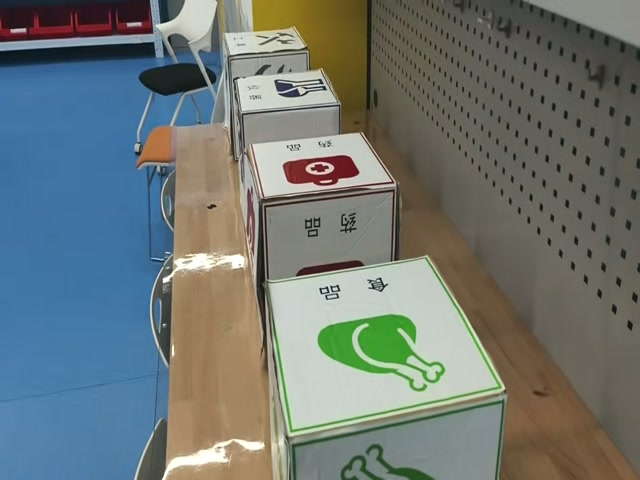Cube_food: (262, 259, 512, 441)
Cube_ins: (230, 71, 339, 119)
Cube_medicine: (238, 135, 395, 209)
Cube_tool: (225, 28, 308, 61)
